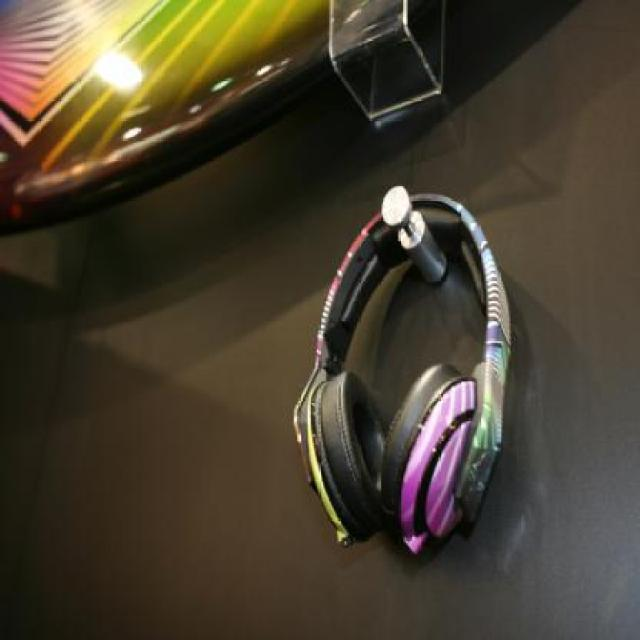earphone: (245, 175, 524, 547)
